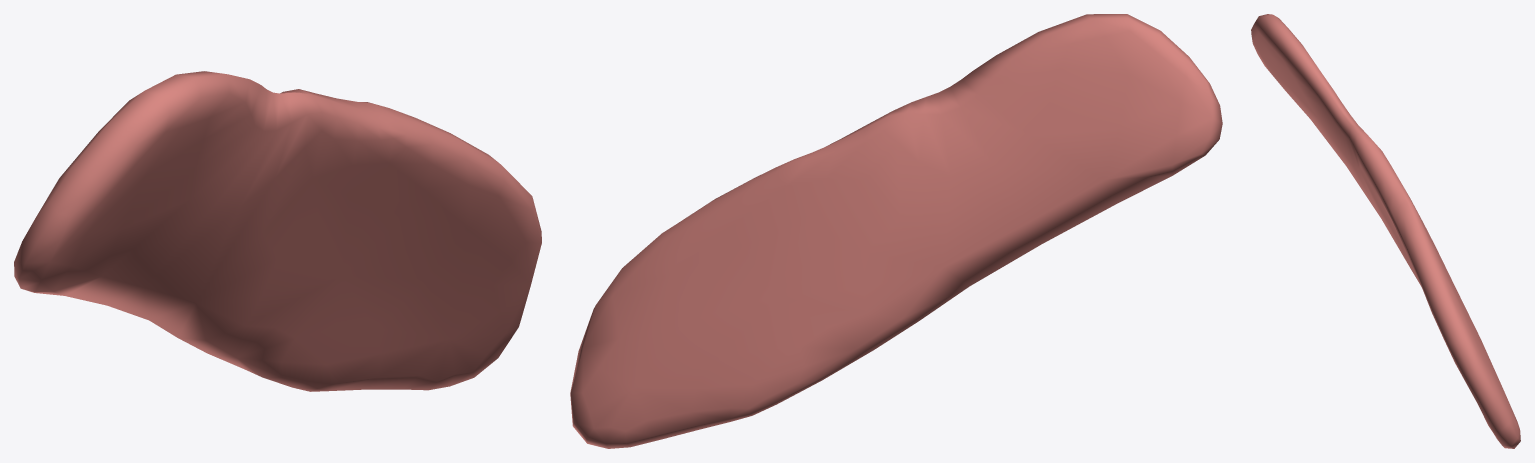
The picture shows the model from 3 angles, left to right: view 1: azimuth 30°, elevation 25°; view 2: azimuth 150°, elevation 25°; view 3: azimuth 270°, elevation 25°; orthographic projection. The views are drawn at different scales.
Parts seen in each view (by area): view 1: ZA_7b15bcc0c2c3b87f; view 2: ZA_7b15bcc0c2c3b87f; view 3: ZA_7b15bcc0c2c3b87f.
Part boxes in pixels (x1,y1,x2,y2): ZA_7b15bcc0c2c3b87f: (14, 71, 541, 391); ZA_7b15bcc0c2c3b87f: (570, 14, 1222, 448); ZA_7b15bcc0c2c3b87f: (1251, 14, 1520, 448).
Bounding box in the file's own units: 0.00795 × 0.00616 × 0.00506.
